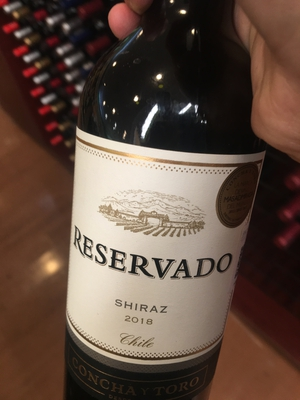reservado shiraz: (57, 51, 270, 400)
